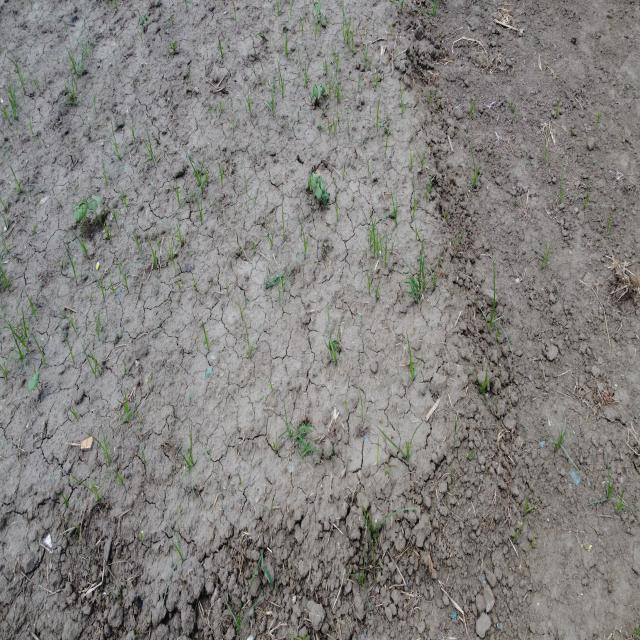seedling_s3: (27, 371, 40, 392), (74, 204, 87, 221), (312, 172, 319, 188), (88, 199, 97, 211), (78, 199, 88, 209), (315, 183, 321, 199), (92, 194, 102, 202), (317, 176, 324, 187), (309, 173, 313, 191), (313, 86, 318, 98), (314, 3, 322, 10), (315, 84, 322, 92), (321, 182, 325, 195), (321, 195, 327, 203), (325, 192, 330, 199), (322, 84, 325, 94), (310, 94, 314, 101), (140, 19, 144, 25), (145, 16, 148, 21)
